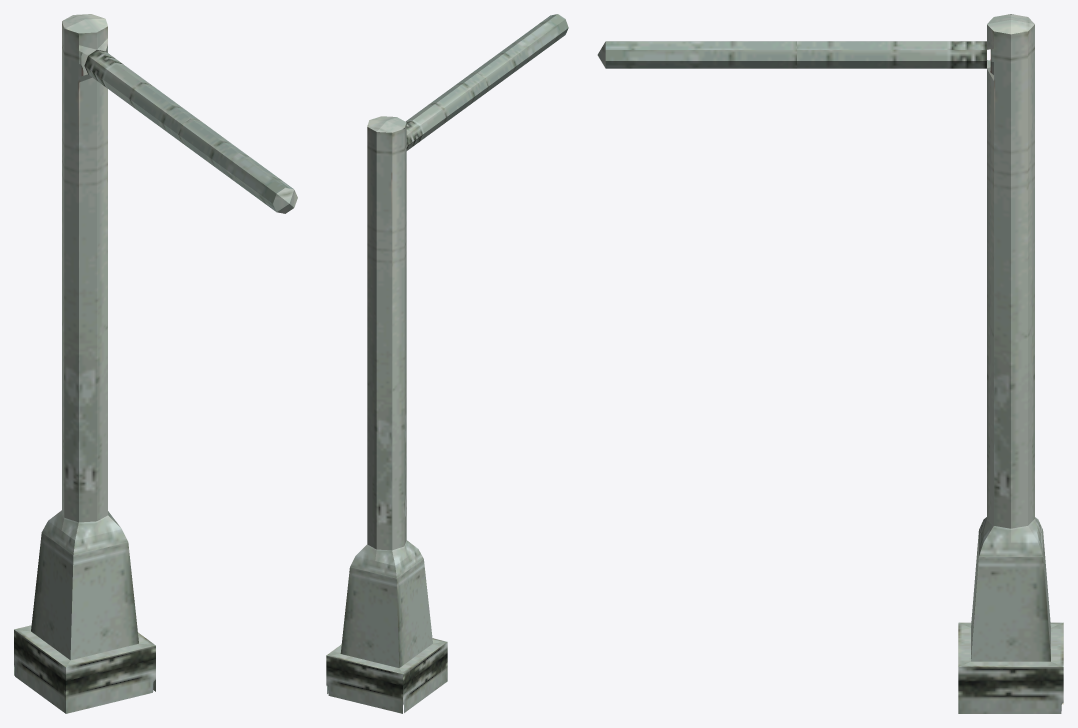
The model's file is Urban_TrafficLighPoleL_Model.fbx.
3 renders of one model, left to right at view 1: azimuth 30°, elevation 25°; view 2: azimuth 150°, elevation 25°; view 3: azimuth 270°, elevation 25°, orthographic. The views are drawn at different scales.
Visible parts, largest first — view 1: Urban_TrafficLighPoleL_Mesh; view 2: Urban_TrafficLighPoleL_Mesh; view 3: Urban_TrafficLighPoleL_Mesh.
Part boxes in pixels (box(x1,y1,x2,y2)): Urban_TrafficLighPoleL_Mesh: box(14, 14, 297, 713); Urban_TrafficLighPoleL_Mesh: box(326, 14, 568, 713); Urban_TrafficLighPoleL_Mesh: box(597, 14, 1063, 713).
Bounding box in the file's own units: 0.8032 × 5.66 × 3.56.
